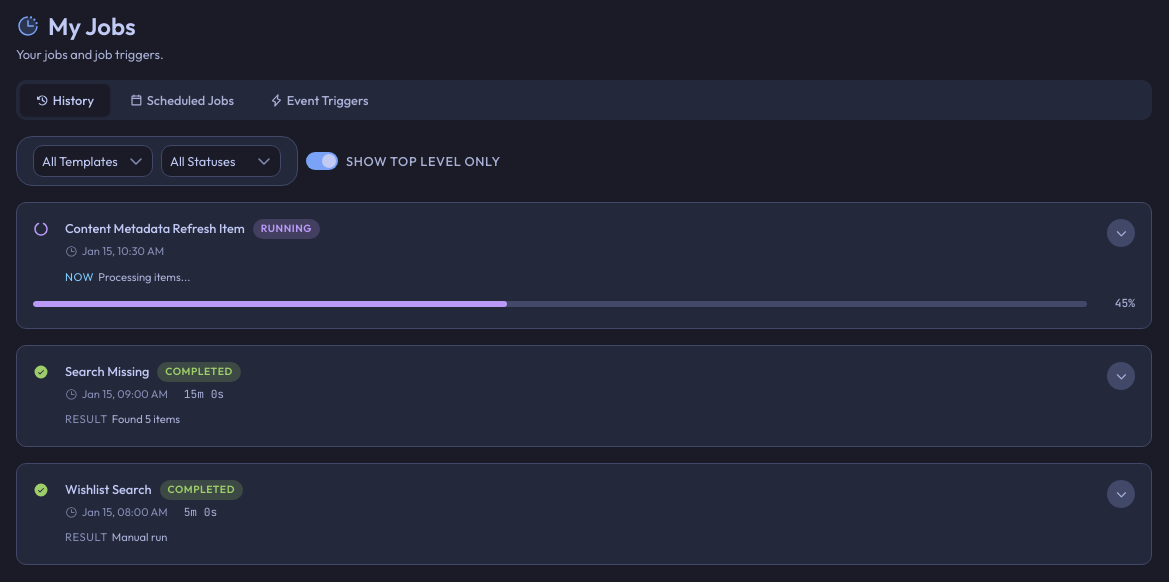
MyJobsPage Executions tab › filters executions by template (job type)
The width and height of the screenshot is (1169, 582).
What coordinates should you click on to do the following:
click the dropdown named "filter by template"
I would click on:
 (93, 161)
Its box is [33,145,153,177].
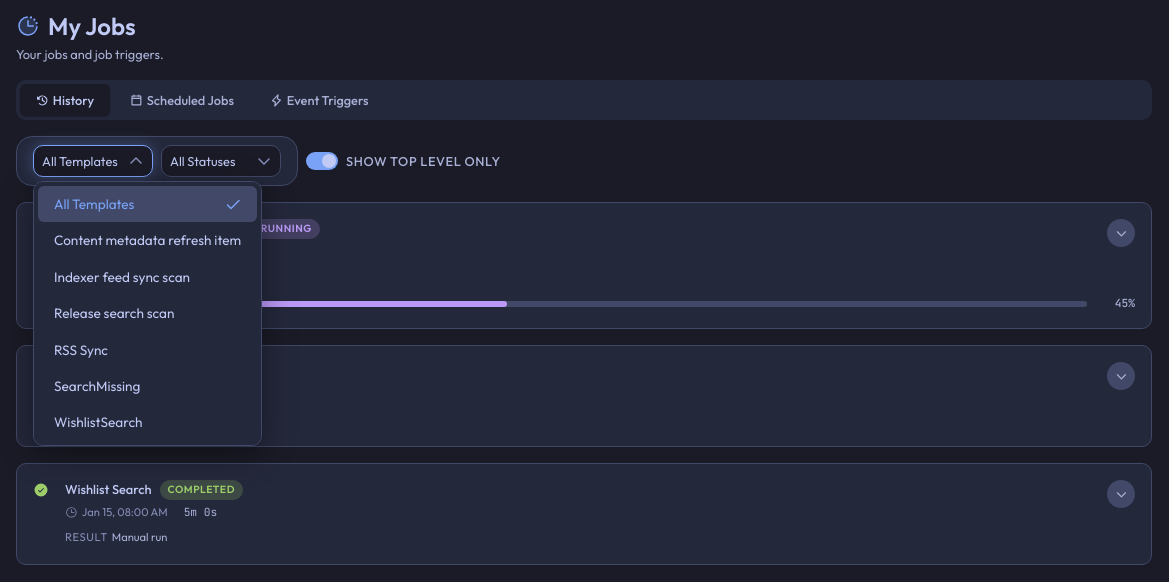
What coordinates should you click on to do the following:
click the option "WishlistSearch"
I would click on:
 (98, 422)
Its box is [54,413,142,431].
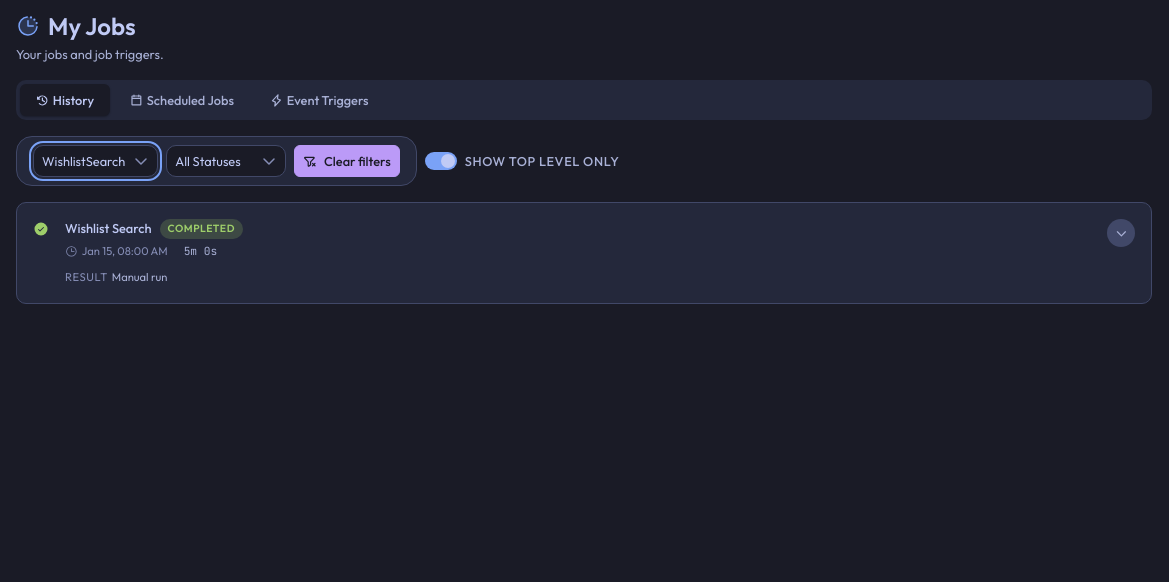
Expected: the text "Manual run" is shown, [112,268,167,287]
Expected: the number of list items is 1, [16,202,1152,304]
